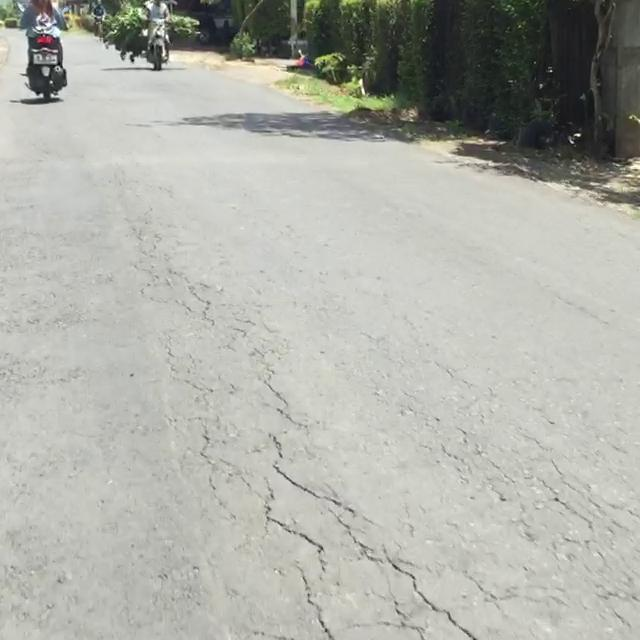retak_kulit_buaya: (117, 232, 500, 640), (515, 460, 640, 640)
